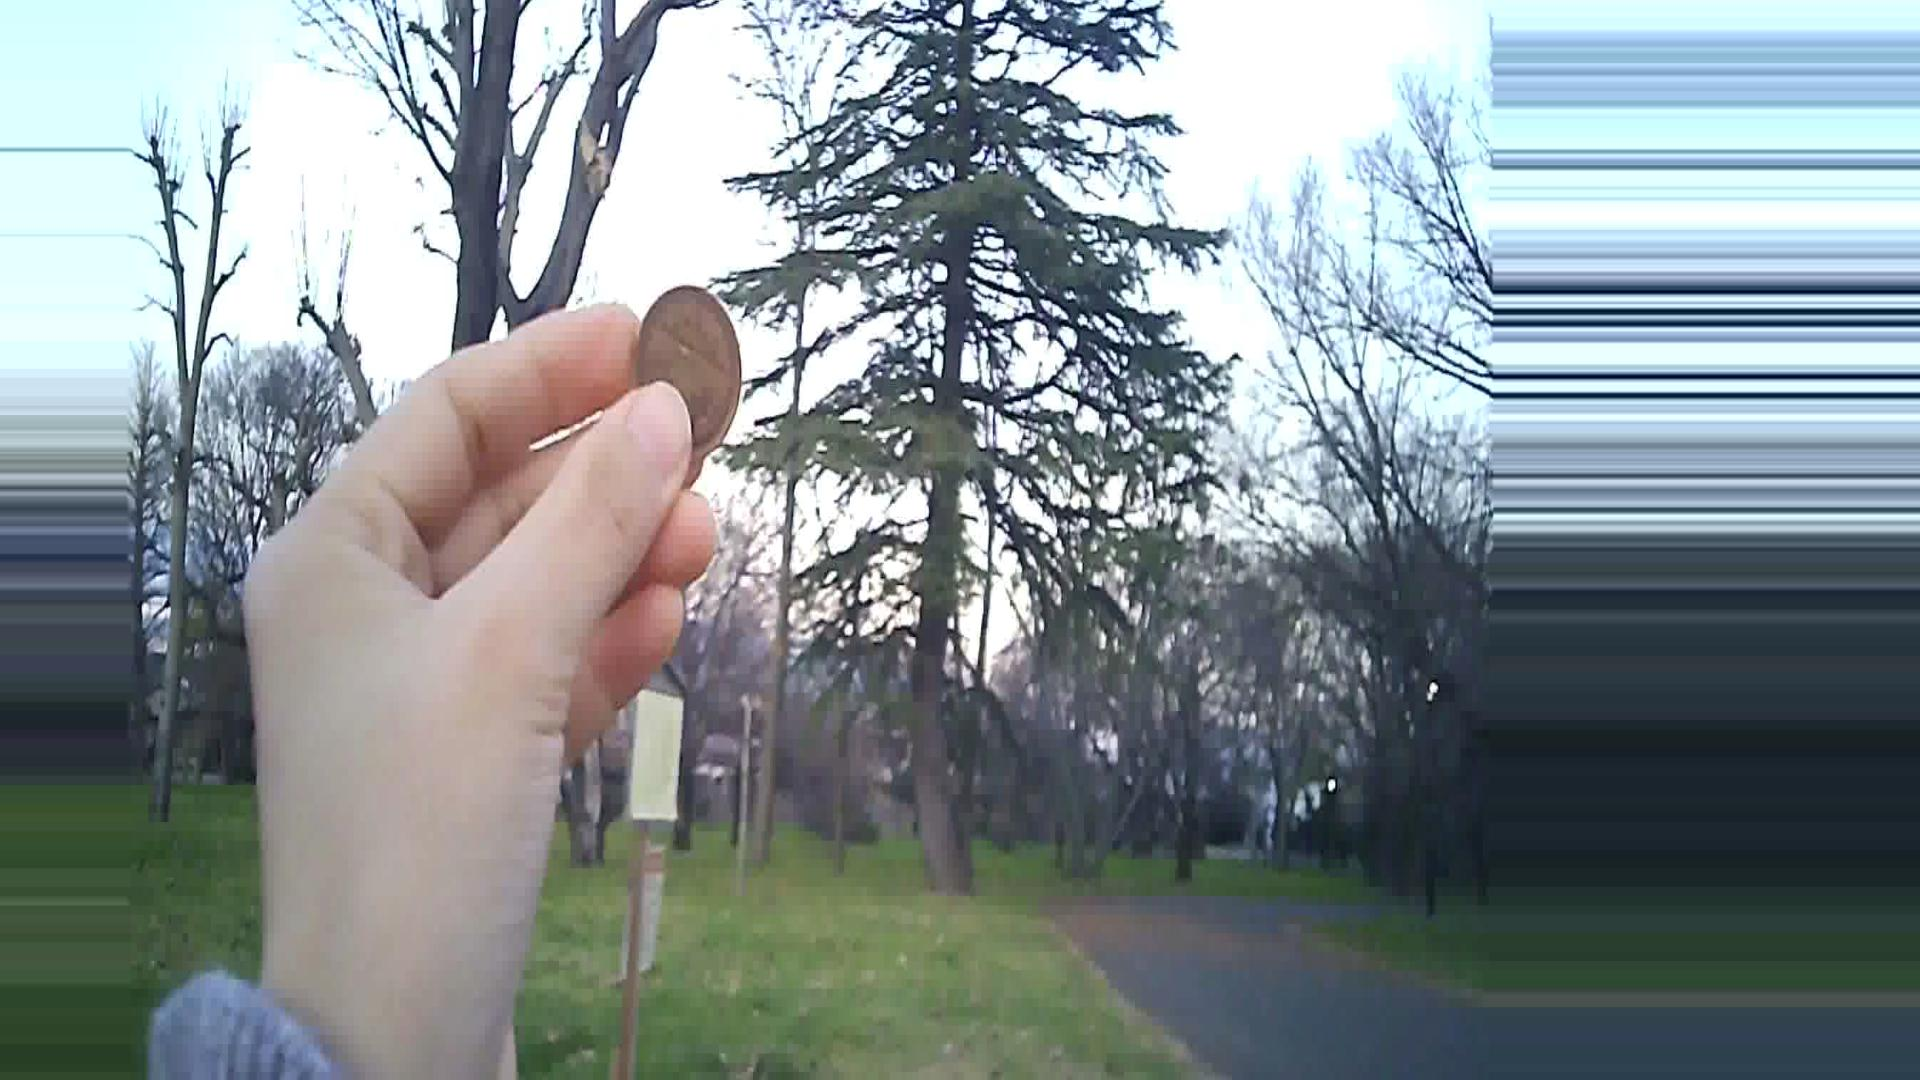10 Yen: (626, 268, 748, 450)
